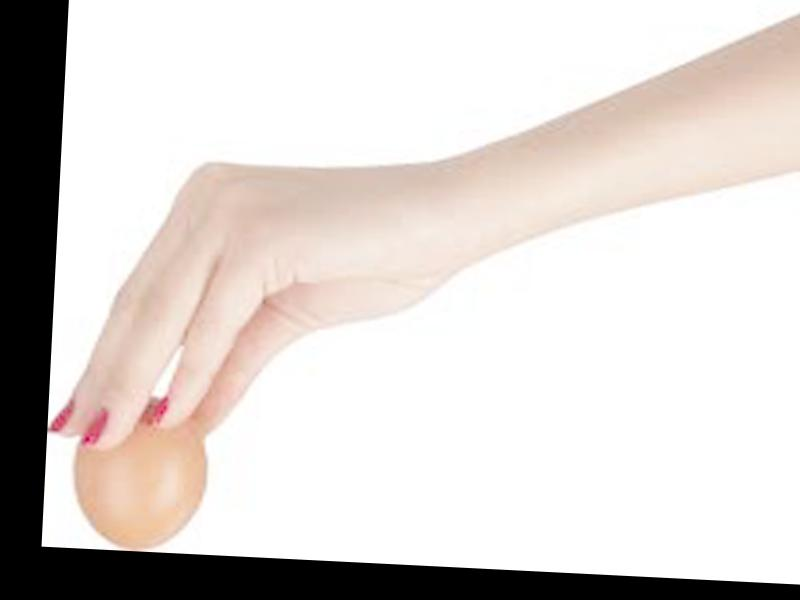Eggs: (68, 397, 211, 551)
